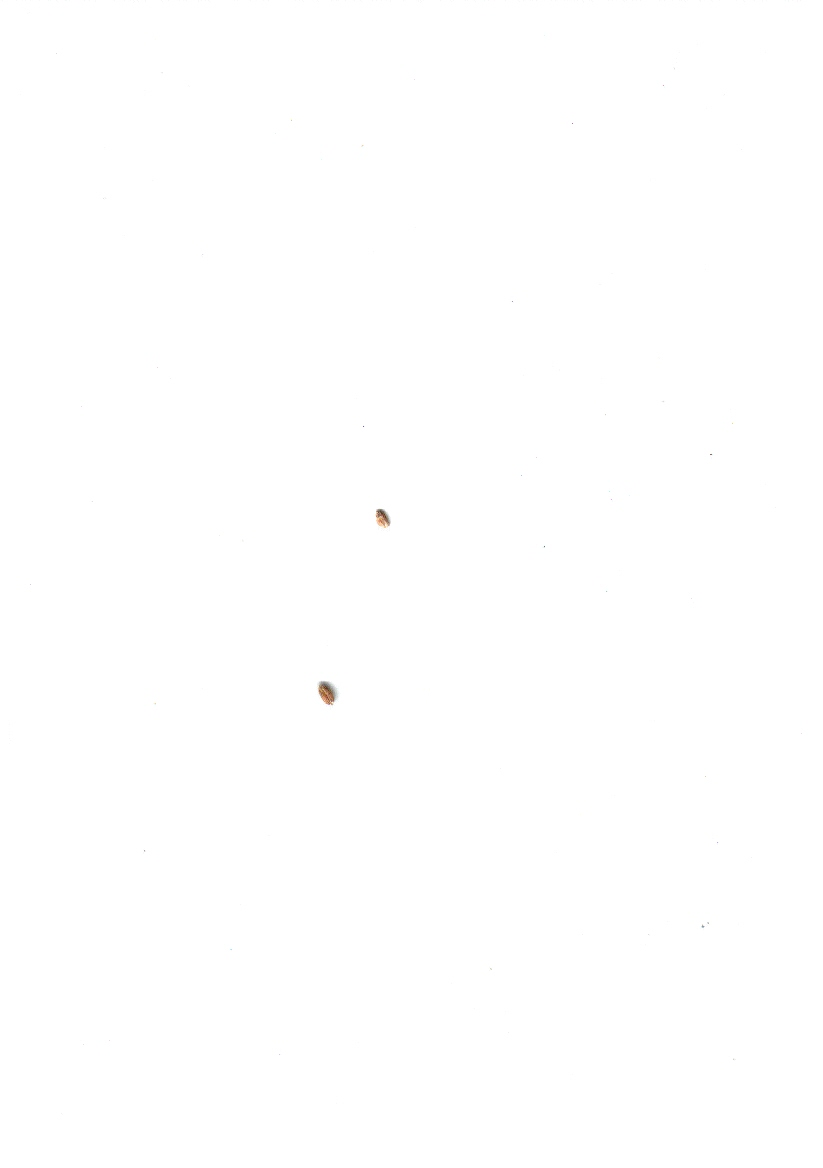grains: (364, 498, 403, 542), (312, 672, 345, 721)
